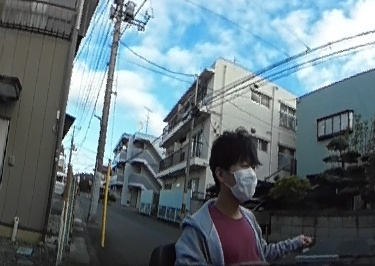person: (183, 128, 286, 266)
